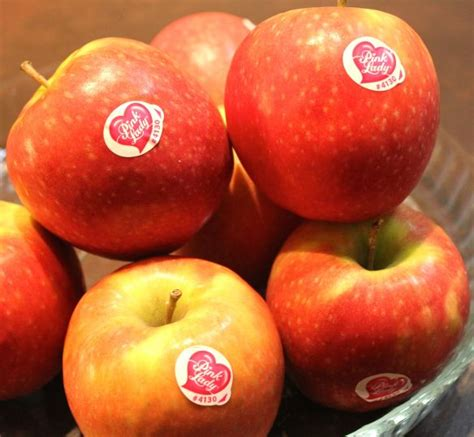apple: (1, 36, 237, 262), (218, 1, 444, 224), (265, 202, 469, 417), (54, 253, 288, 437)
